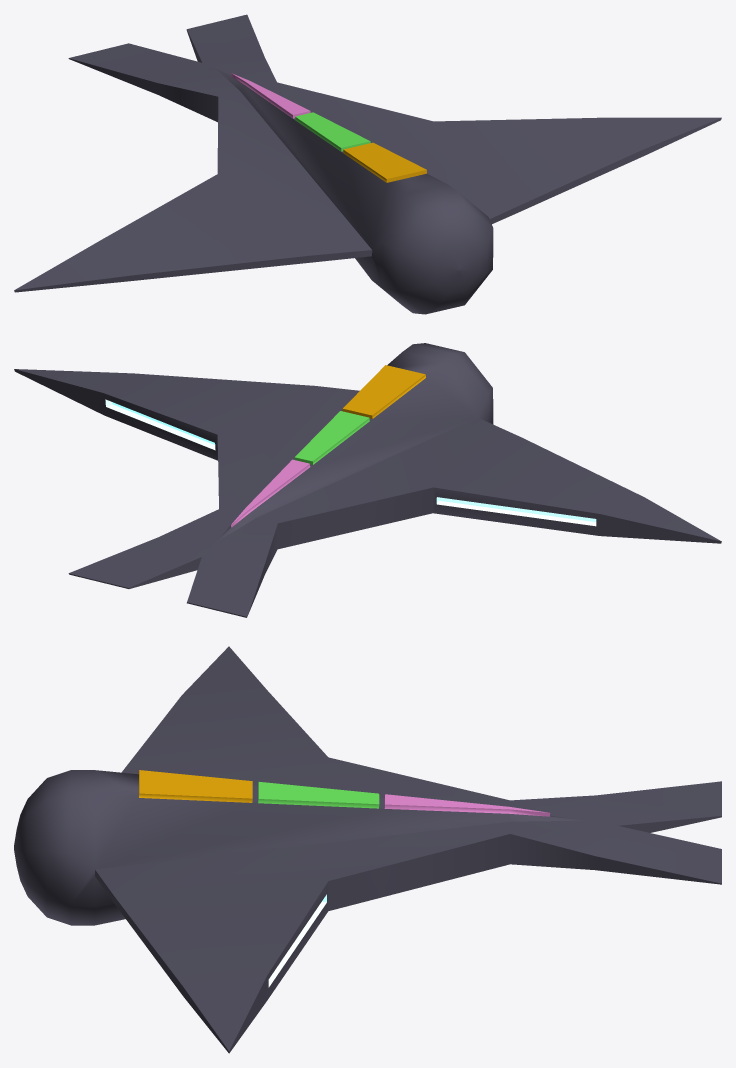
The model's file is spaceship2.fbx.
3 views of the same model, one above another, from view 1: azimuth 30°, elevation 25°; view 2: azimuth 150°, elevation 25°; view 3: azimuth 270°, elevation 25° (orthographic). The views are drawn at different scales.
Parts seen in each view (by area): view 1: ship2; view 2: ship2; view 3: ship2.
Boxes of the visible parts, <box> form: ship2: <box>14,14,721,314</box>; ship2: <box>14,343,721,617</box>; ship2: <box>14,646,721,1053</box>.
Bounding box in the file's own units: 7.23 × 1.1 × 5.34.
